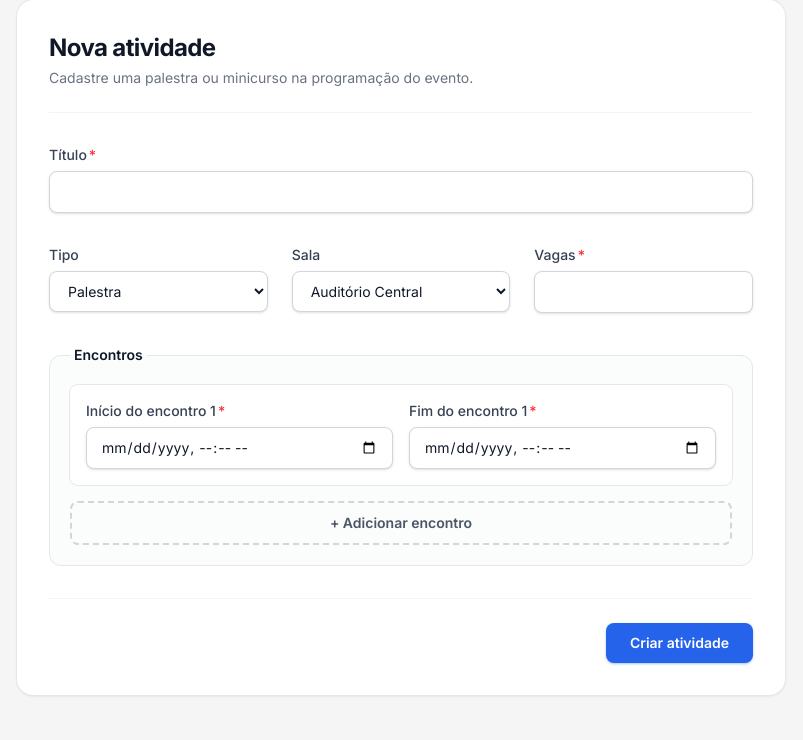
it: FormularioAtividade › adiciona um novo par de campos de encontro
The image size is (803, 740).
Check: the field labelled "início do encontro 2" is not shown
Click the button "+ Adicionar encontro".
click(401, 523)  # box [70,501,732,545]
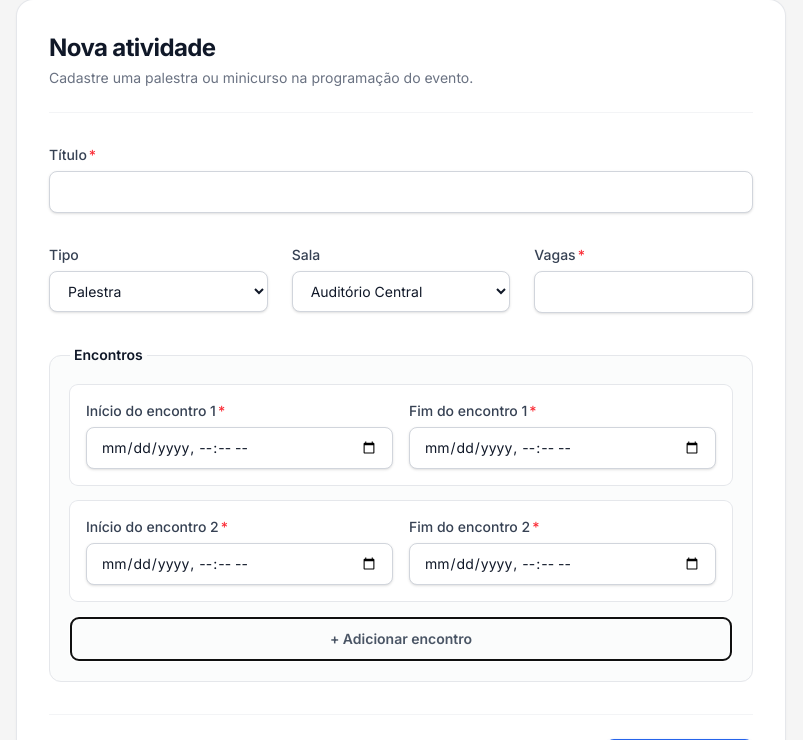
Check: the field labelled "Início do encontro 2" is shown, box [86,543,393,585]
